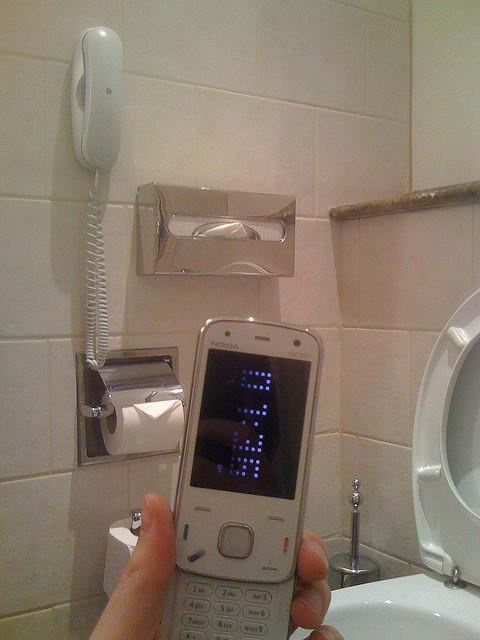Sanitario: (274, 292, 479, 639)
